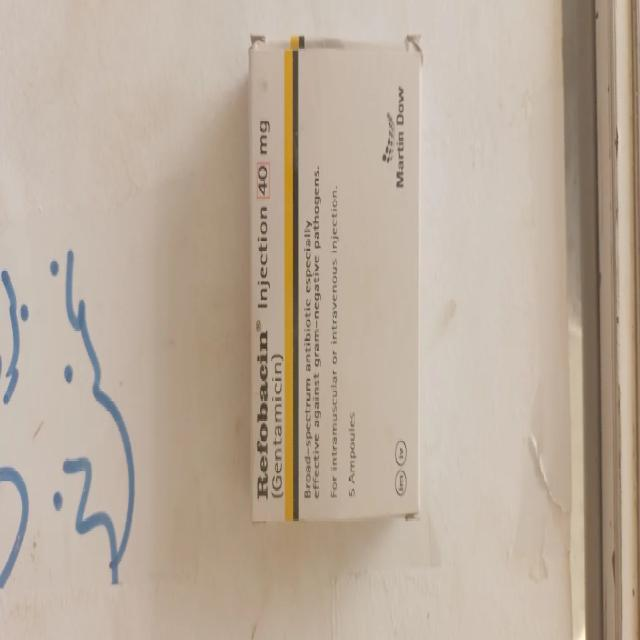drug-name: (252, 328, 272, 502)
